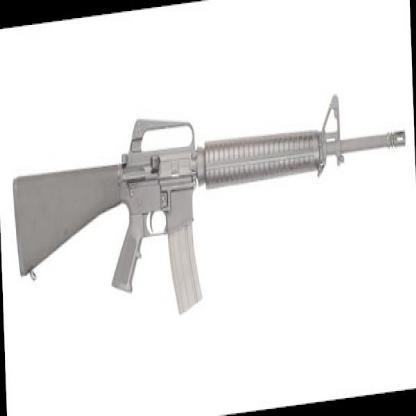rifle: (11, 79, 410, 331)
